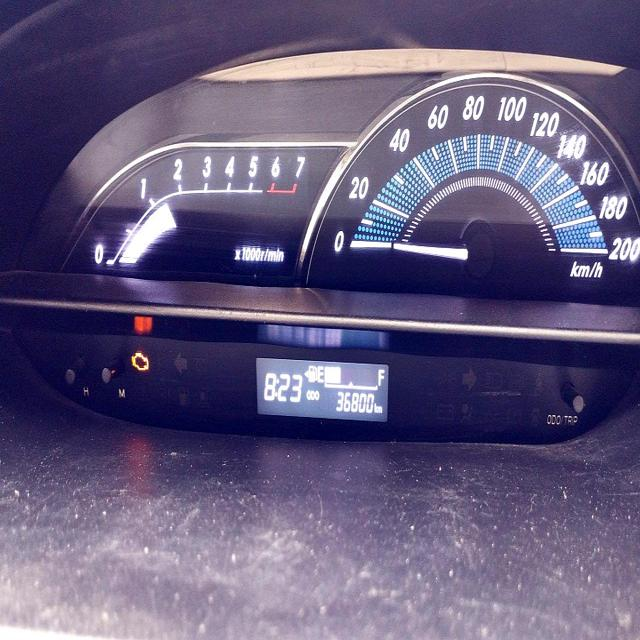odometer: (333, 391, 377, 416)
